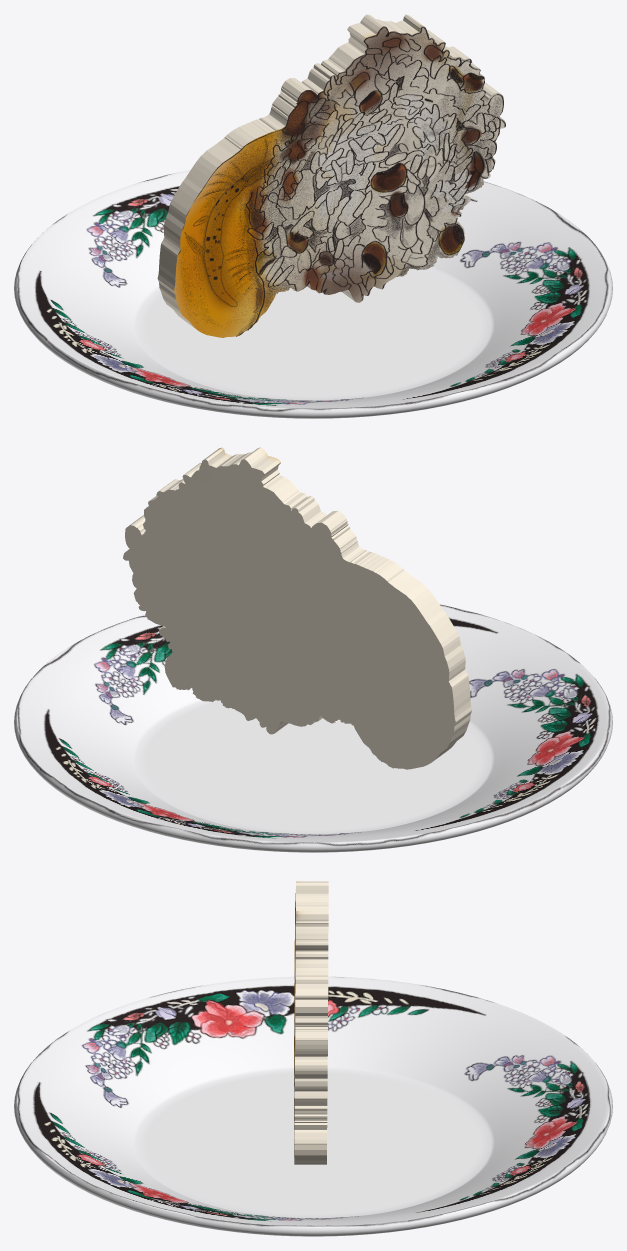
File: Arroz de frijolito.glb
3 renders of one model, top to bottom at view 1: azimuth 30°, elevation 25°; view 2: azimuth 150°, elevation 25°; view 3: azimuth 270°, elevation 25°, orthographic.
Parts seen in each view (by area): view 1: Plato.001, Arroz de frijolito; view 2: Plato.001, Arroz de frijolito; view 3: Plato.001, Arroz de frijolito.
Part boxes in pixels (x1=…): Plato.001: x1=14, y1=170, x2=612, y2=418; Arroz de frijolito: x1=157, y1=14, x2=505, y2=337; Plato.001: x1=14, y1=604, x2=612, y2=852; Arroz de frijolito: x1=123, y1=447, x2=471, y2=769; Plato.001: x1=14, y1=976, x2=612, y2=1236; Arroz de frijolito: x1=294, y1=881, x2=328, y2=1164.
Bounding box in the file's own units: 18.56 × 10.29 × 18.56.
2 materials, 2 textured.
